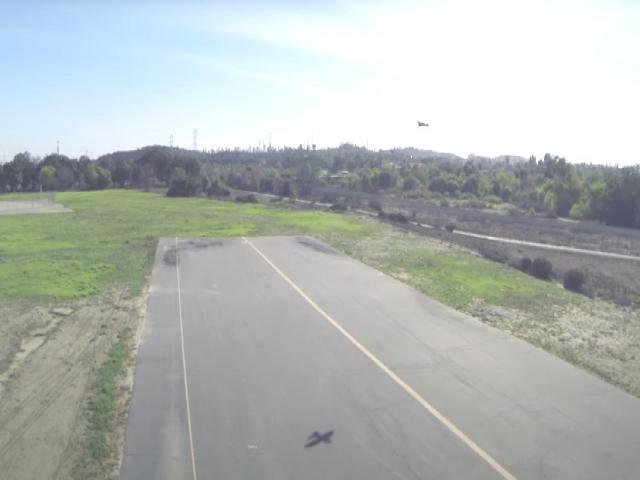iha: (418, 121, 428, 127)
